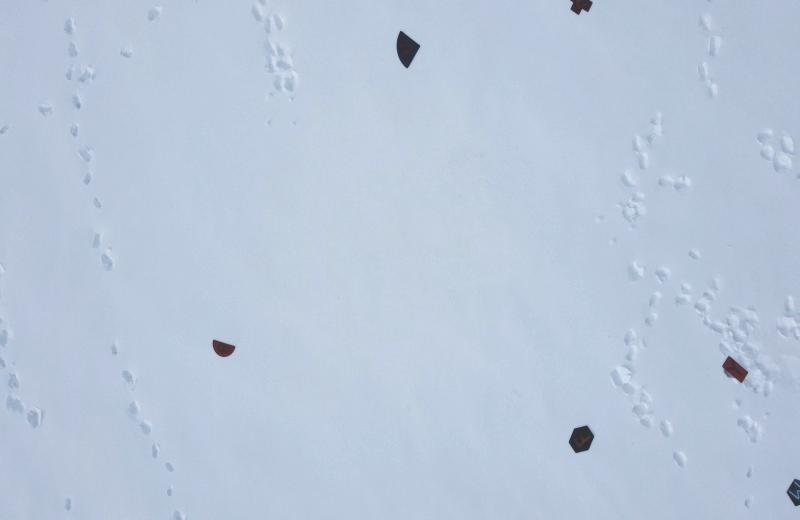Cross: (566, 0, 596, 23)
Hexagon: (565, 422, 596, 458)
Quarter Circle: (392, 25, 424, 73)
Rectangle: (1, 0, 800, 520), (721, 347, 750, 387)
Semi Circle: (209, 336, 237, 365)
